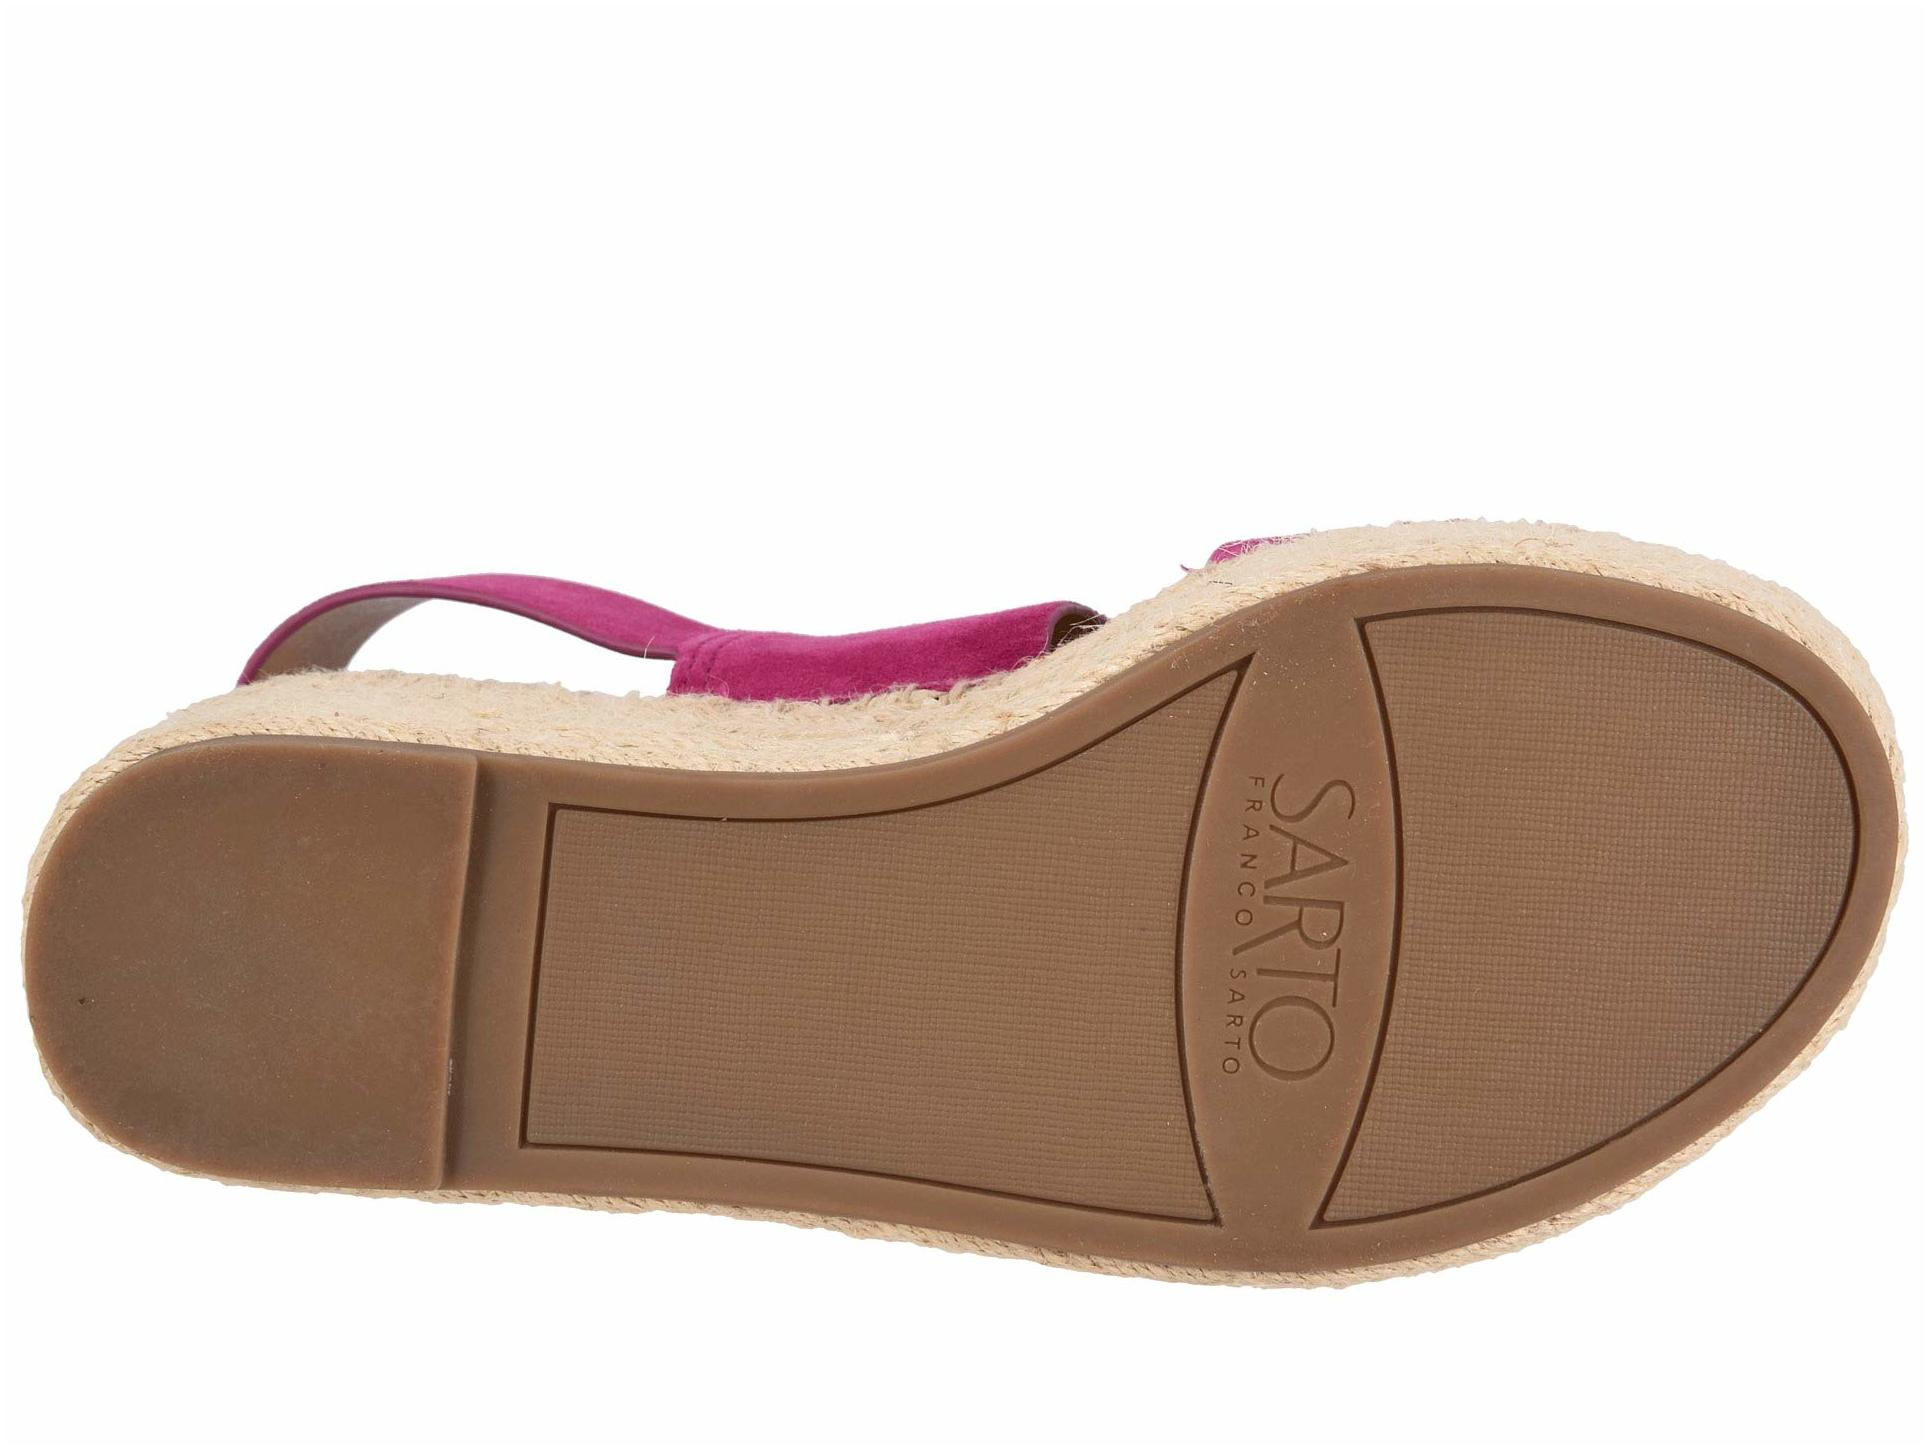circle: (1197, 711, 1587, 1136)
text: (1197, 711, 1587, 1136)
triangle: (1197, 711, 1587, 1136)
